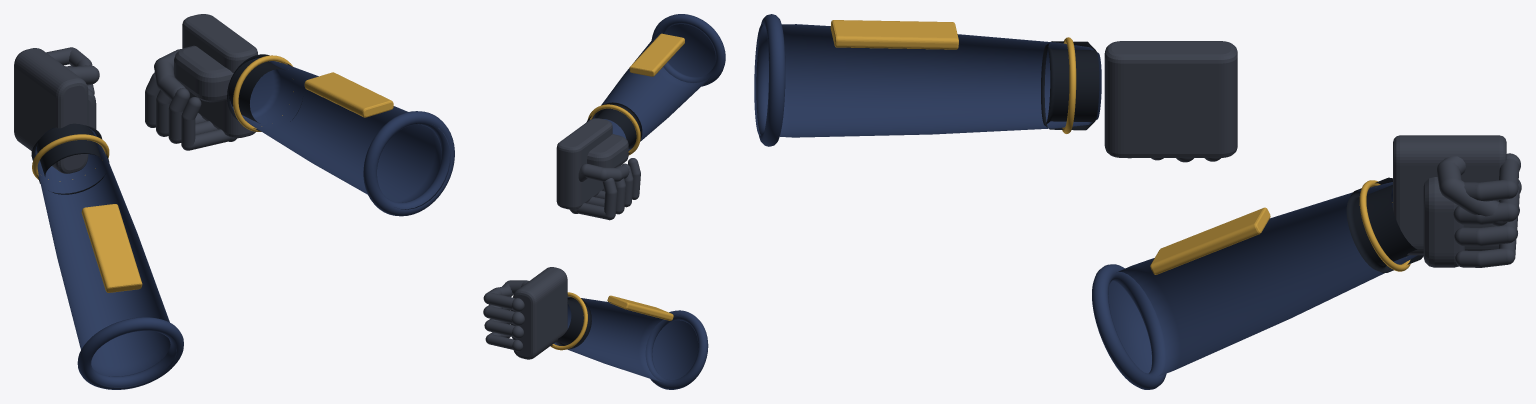
File: hands_firstperson_tool.glb
3 renders of one model, left to right at view 1: azimuth 30°, elevation 25°; view 2: azimuth 150°, elevation 25°; view 3: azimuth 270°, elevation 25°, orthographic. The views are drawn at different scales.
Visible parts, largest first — view 1: hand_l_forearm, hand_r_forearm, hand_l_palm, hand_r_sleeve_roll, hand_r_palm, hand_l_forearm_plate, hand_l_sleeve_roll, hand_r_heel, hand_r_forearm_plate, hand_l_cuff, hand_r_cuff, hand_r_finger0 (+8 smaller); view 2: hand_l_forearm, hand_r_forearm, hand_l_palm, hand_r_palm, hand_l_sleeve_roll, hand_r_sleeve_roll, hand_r_forearm_plate, hand_r_heel, hand_l_cuff, hand_r_cuff, hand_r_finger3, hand_r_thumb (+11 smaller); view 3: hand_r_forearm, hand_l_forearm, hand_r_palm, hand_l_palm, hand_l_sleeve_roll, hand_r_cuff, hand_r_forearm_plate, hand_r_sleeve_roll, hand_l_cuff, hand_l_forearm_plate, hand_l_heel, hand_l_thumb (+6 smaller).
Part boxes in pixels (x1=…): hand_l_forearm: x1=35, y1=128, x2=176, y2=387; hand_r_forearm: x1=230, y1=58, x2=450, y2=209; hand_l_palm: x1=14, y1=48, x2=88, y2=173; hand_r_sleeve_roll: x1=363, y1=111, x2=454, y2=216; hand_r_palm: x1=182, y1=14, x2=257, y2=138; hand_l_forearm_plate: x1=81, y1=204, x2=142, y2=292; hand_l_sleeve_roll: x1=77, y1=317, x2=183, y2=389; hand_r_heel: x1=174, y1=45, x2=233, y2=102; hand_r_forearm_plate: x1=304, y1=72, x2=393, y2=117; hand_l_cuff: x1=31, y1=123, x2=109, y2=194; hand_r_cuff: x1=227, y1=54, x2=303, y2=131; hand_r_finger0: x1=181, y1=97, x2=230, y2=150; hand_l_forearm: x1=554, y1=296, x2=698, y2=382; hand_r_forearm: x1=592, y1=24, x2=715, y2=150; hand_l_palm: x1=513, y1=267, x2=567, y2=359; hand_r_palm: x1=556, y1=118, x2=612, y2=209; hand_l_sleeve_roll: x1=645, y1=310, x2=708, y2=389; hand_r_sleeve_roll: x1=651, y1=14, x2=725, y2=86; hand_r_forearm_plate: x1=629, y1=33, x2=684, y2=76; hand_r_heel: x1=587, y1=134, x2=628, y2=167; hand_l_cuff: x1=551, y1=297, x2=591, y2=349; hand_r_cuff: x1=586, y1=102, x2=642, y2=153; hand_r_finger3: x1=576, y1=178, x2=617, y2=220; hand_r_thumb: x1=578, y1=163, x2=629, y2=182; hand_r_forearm: x1=754, y1=24, x2=1101, y2=137; hand_l_forearm: x1=1108, y1=182, x2=1417, y2=375; hand_r_palm: x1=1104, y1=41, x2=1237, y2=157; hand_l_palm: x1=1393, y1=135, x2=1506, y2=255; hand_l_sleeve_roll: x1=1092, y1=264, x2=1166, y2=389; hand_r_cuff: x1=1041, y1=41, x2=1099, y2=130; hand_r_forearm_plate: x1=830, y1=20, x2=958, y2=49; hand_r_sleeve_roll: x1=756, y1=14, x2=785, y2=146; hand_l_cuff: x1=1346, y1=177, x2=1423, y2=272; hand_l_forearm_plate: x1=1150, y1=207, x2=1270, y2=274; hand_l_heel: x1=1423, y1=177, x2=1464, y2=267; hand_l_thumb: x1=1436, y1=156, x2=1506, y2=226.
Size of the model in its own units: 0.2264 by 0.3488 by 0.5539.
